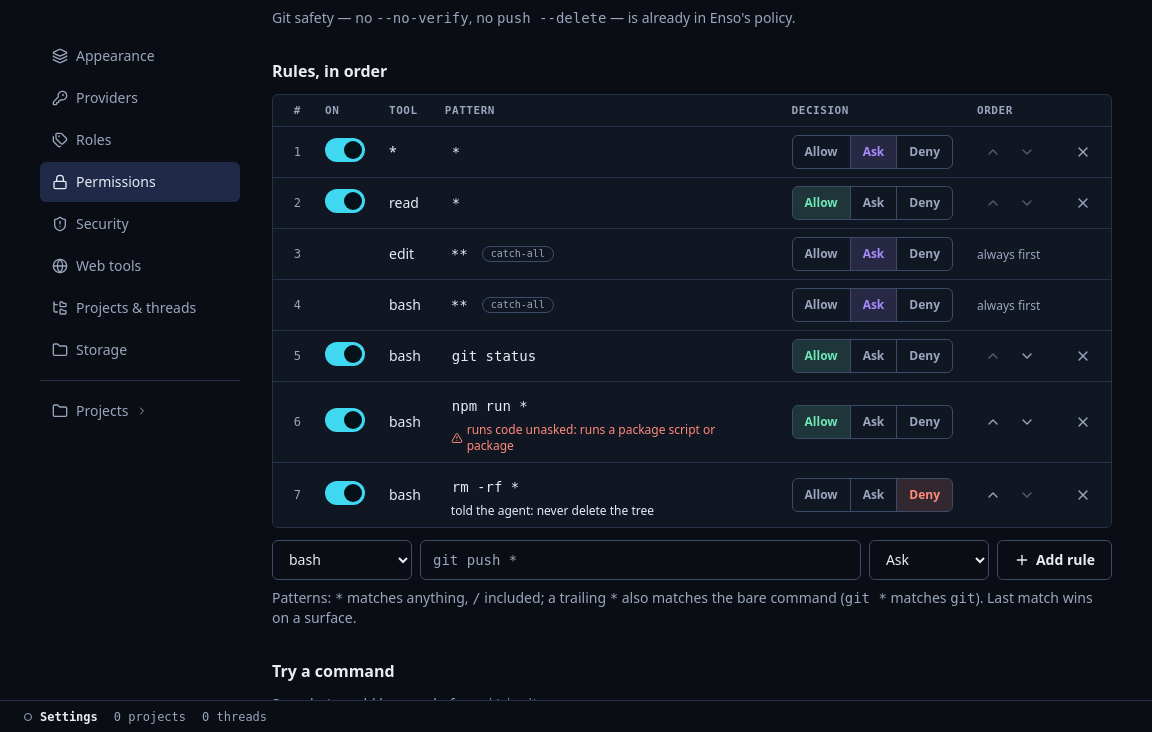
Test: ⚠ leaving Settings, or its section, keeps an unsaved draft, and coming back reads nothing again (#869)
(page scrolled)
Click the 5th radio button labelled "Deny": [924, 356] box [896,340,952,372]
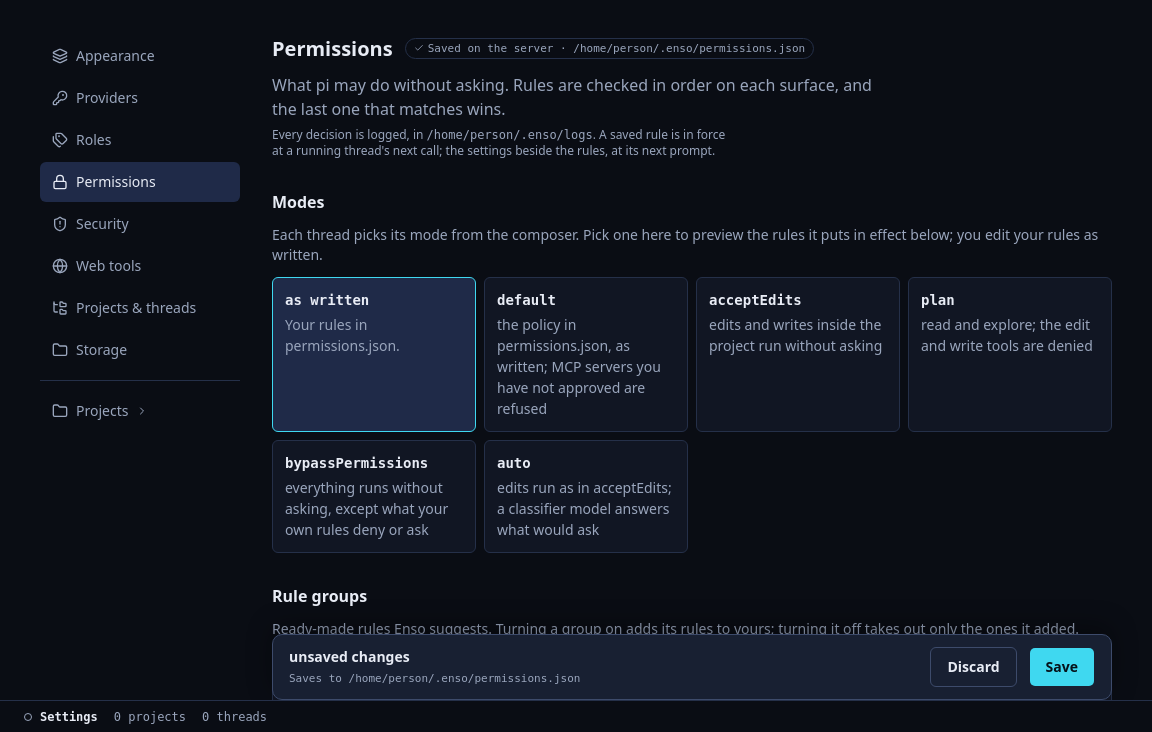
Click the button "Appearance": [140, 56] box [40,36,240,76]
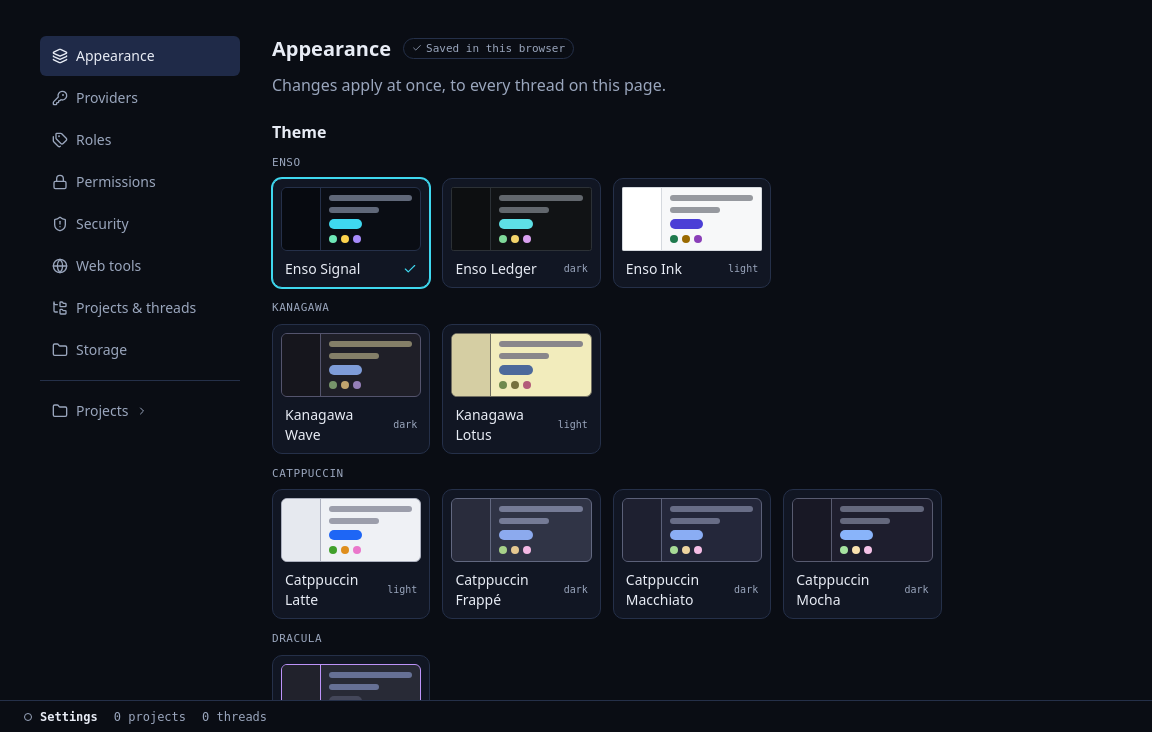
Check: the heading "Appearance" is shown, box [272,36,391,61]
Click the button "Permissions": [140, 182] box [40,162,240,202]
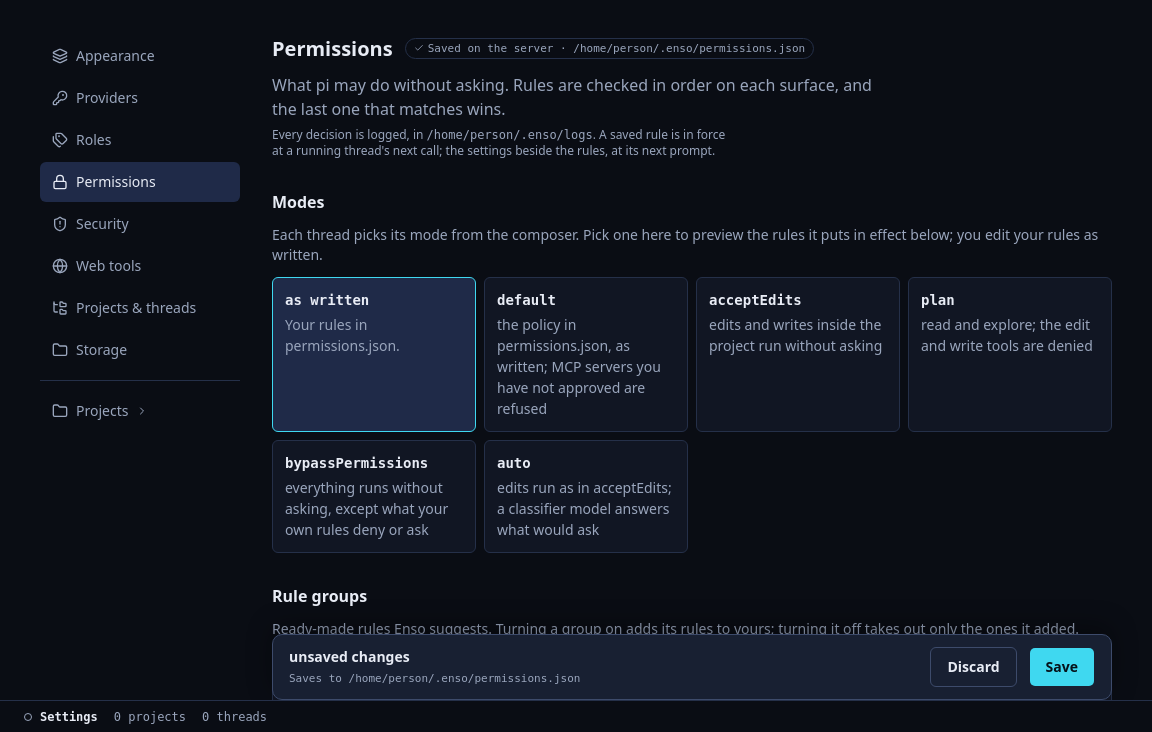
Check: the button "Save" is enabled, box [1029,647,1095,687]
